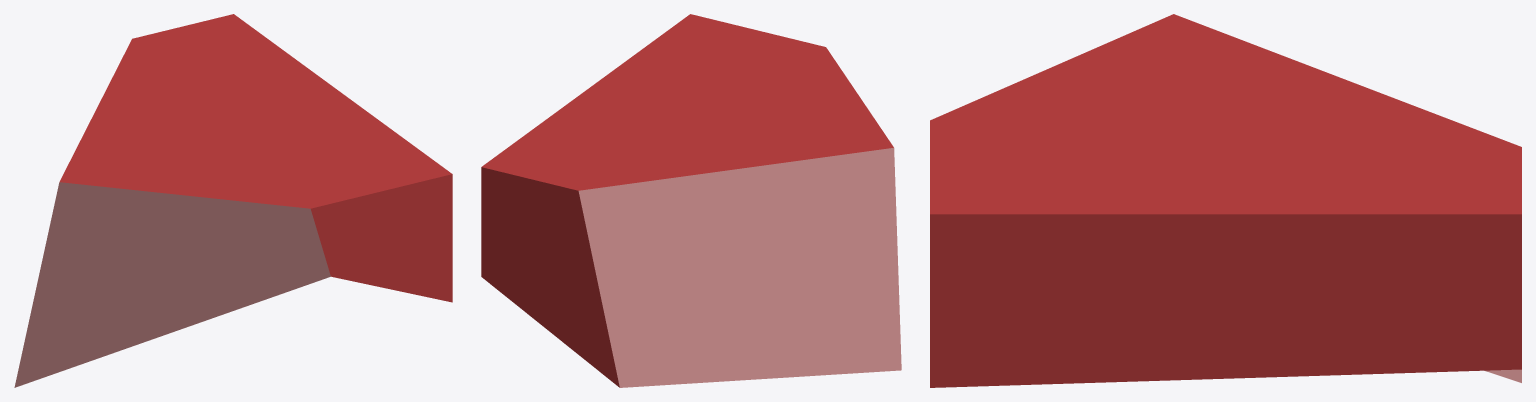
The model's file is wrong2.fbx.
The picture shows the model from 3 angles, left to right: view 1: azimuth 30°, elevation 25°; view 2: azimuth 150°, elevation 25°; view 3: azimuth 270°, elevation 25°; orthographic projection. The views are drawn at different scales.
Visible parts, largest first — view 1: wrong2; view 2: wrong2; view 3: wrong2.
Boxes of the visible parts, left/top/right/bottom form: wrong2: left=14, top=14, right=452, bottom=387; wrong2: left=481, top=14, right=901, bottom=387; wrong2: left=930, top=14, right=1521, bottom=387.
Bounding box in the file's own units: 50.75 × 31.33 × 58.33.
